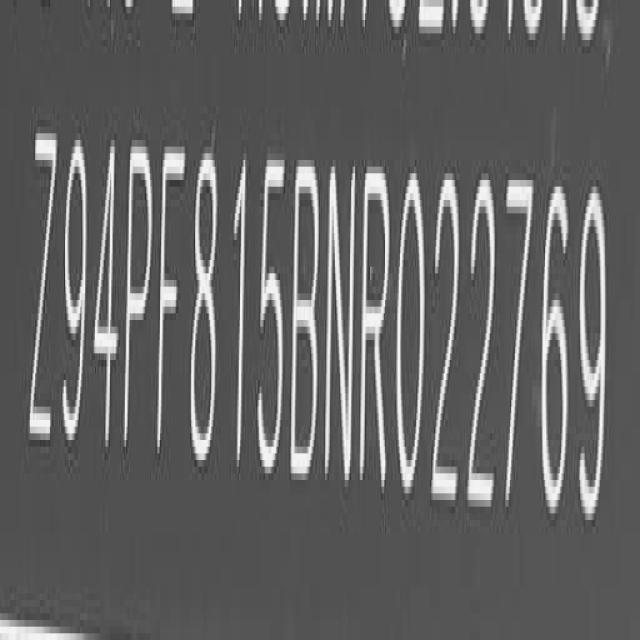0: (395, 166, 427, 508)
1: (230, 147, 250, 482)
2: (467, 173, 498, 516), (432, 172, 461, 513)
4: (95, 134, 121, 461)
5: (255, 156, 288, 472)
6: (541, 176, 573, 521)
7: (506, 168, 536, 518)
8: (192, 146, 220, 473)
9: (578, 186, 607, 521), (61, 131, 88, 458)
B: (292, 150, 323, 487)
F: (157, 136, 185, 467)
N: (327, 155, 358, 491)
P: (126, 133, 155, 466)
R: (360, 157, 393, 497)
Z: (29, 121, 57, 458)
